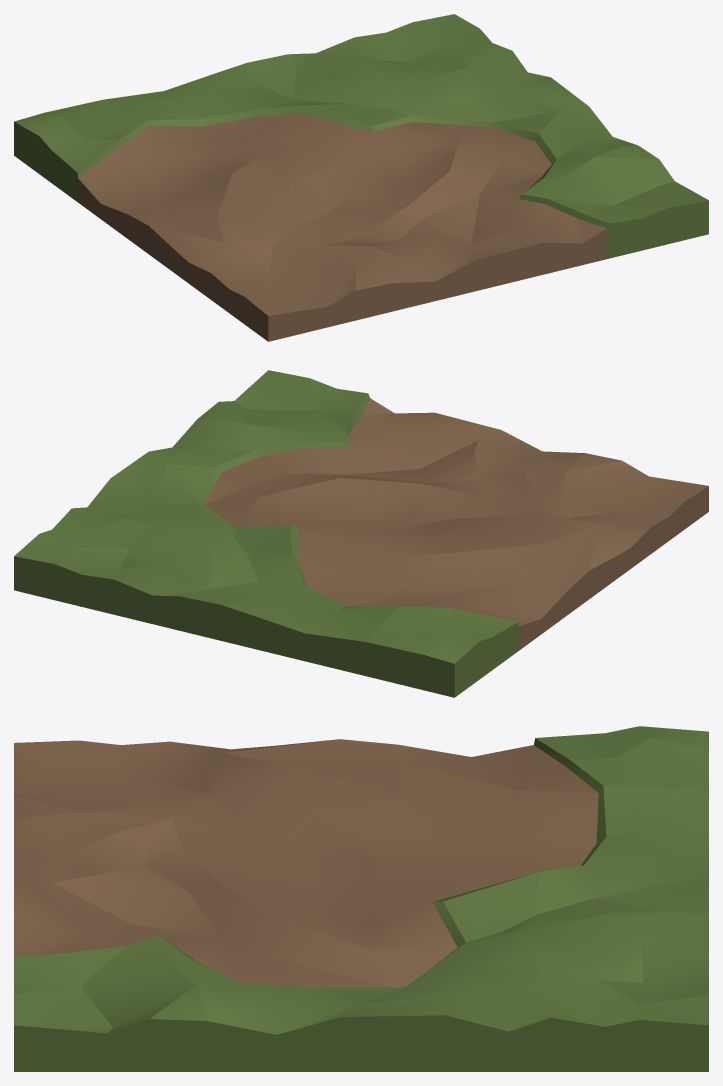
File: Ground_Corner_Internal_RU.glb
3 renders of one model, top to bottom at view 1: azimuth 30°, elevation 25°; view 2: azimuth 150°, elevation 25°; view 3: azimuth 270°, elevation 25°, orthographic. The views are drawn at different scales.
Parts seen in each view (by area): view 1: Ground_Corner_Internal_RU; view 2: Ground_Corner_Internal_RU; view 3: Ground_Corner_Internal_RU.
Boxes of the visible parts, box(x1,y1,x2,y2) form: Ground_Corner_Internal_RU: box(14, 14, 708, 341); Ground_Corner_Internal_RU: box(14, 370, 708, 697); Ground_Corner_Internal_RU: box(14, 726, 708, 1071).
Size of the model in its own units: 1.47 by 0.1396 by 1.47.
